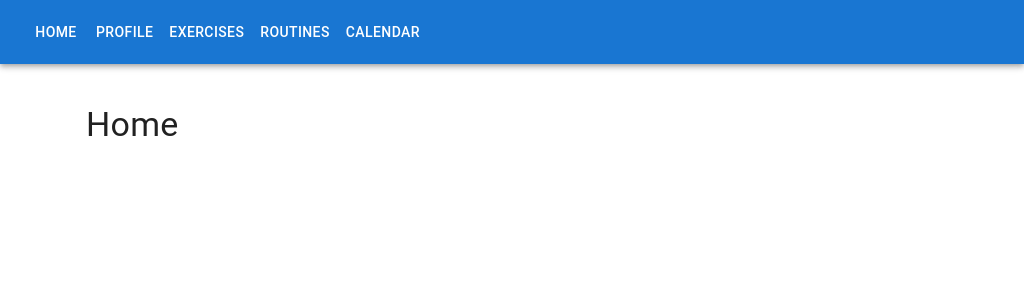
Scenario: Exercise › should fail to add exercise
Click the link "Exercises".
click(207, 32)  # box [169,24,244,40]
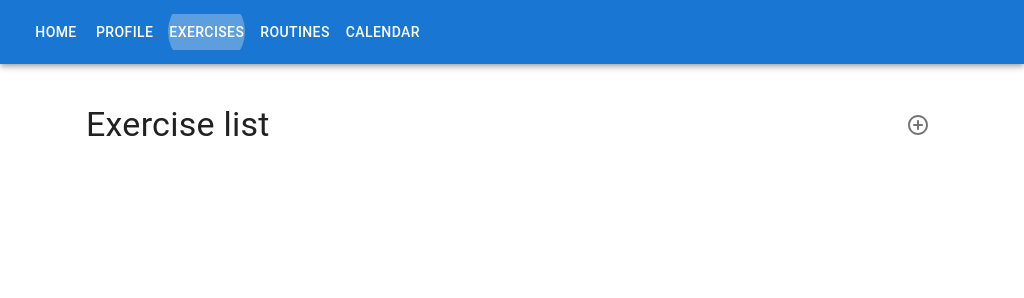
expect the heading "Exercise list" is shown: met, box [86,104,270,146]
Click the icon with test id "AddCircleOutlineRoundedIcon".
click(918, 125)  # box [906,113,930,137]
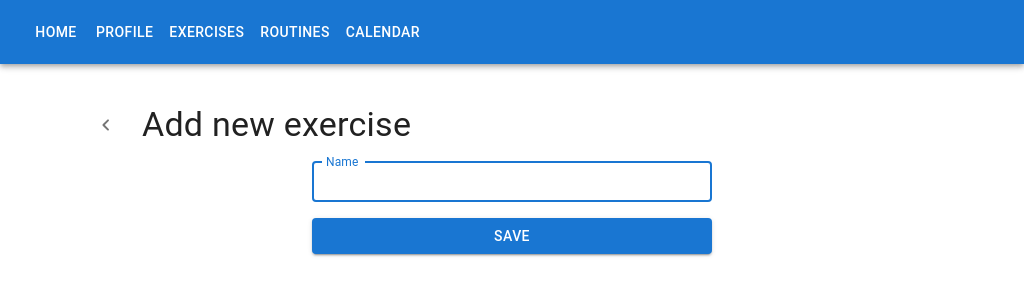
Click the button "Save".
click(512, 237)  # box [312,218,712,255]
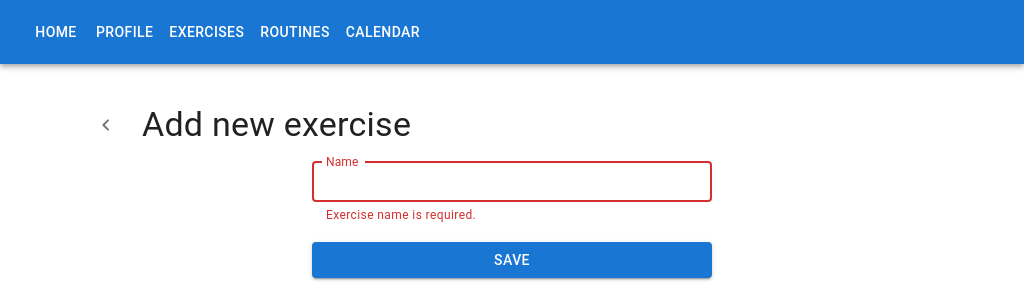
expect the text "Exercise name is required." is shown: met, box [326,208,476,222]
